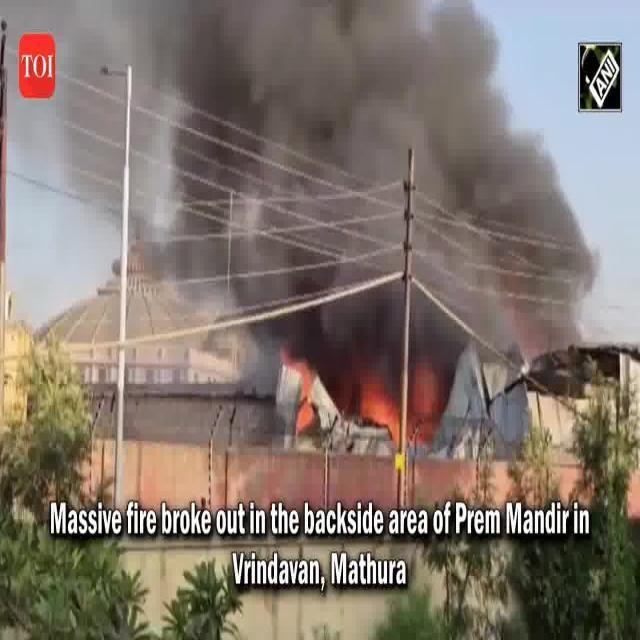Fire: (352, 364, 400, 464), (274, 339, 324, 434), (407, 354, 442, 447)
Smoke: (68, 3, 538, 142), (162, 166, 396, 331), (420, 153, 598, 343)
